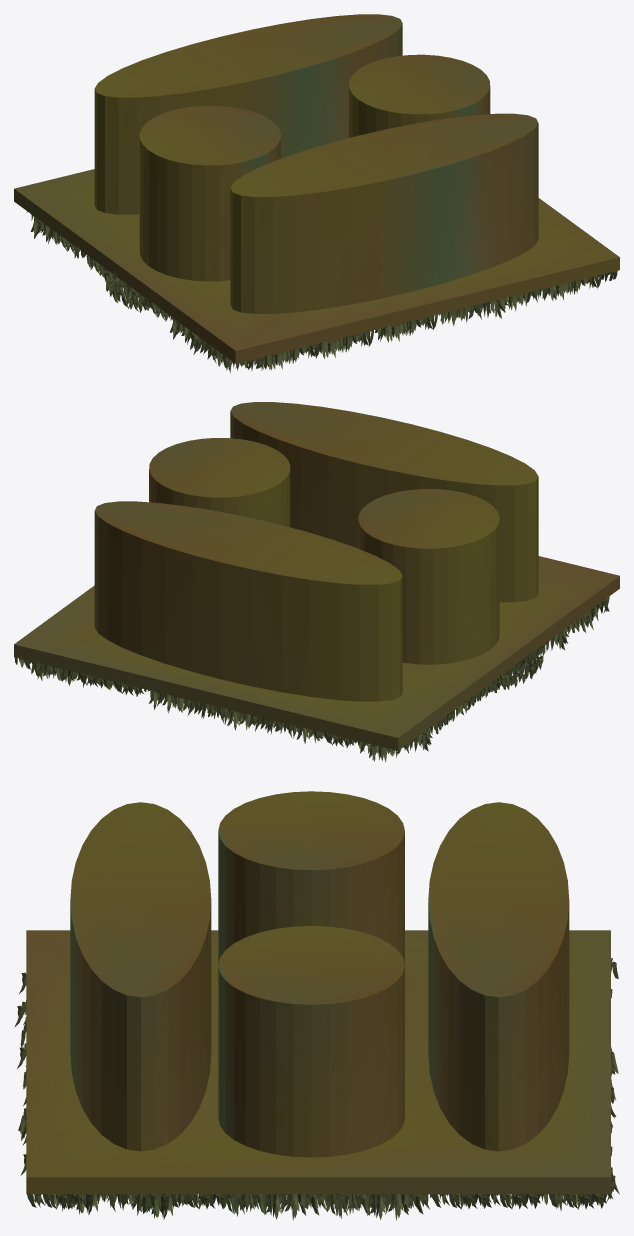
File: TopHole.obj
3 views of the same model, one above another, from view 1: azimuth 30°, elevation 25°; view 2: azimuth 150°, elevation 25°; view 3: azimuth 270°, elevation 25° (orthographic). The views are drawn at different scales.
Visible parts, largest first — view 1: Cube; view 2: Cube; view 3: Cube.
Boxes of the visible parts, x1=… form: Cube: x1=14, y1=14, x2=619, y2=373; Cube: x1=14, y1=402, x2=619, y2=762; Cube: x1=14, y1=791, x2=619, y2=1220.
Bounding box in the file's own units: 21.42 × 7.56 × 20.73.
